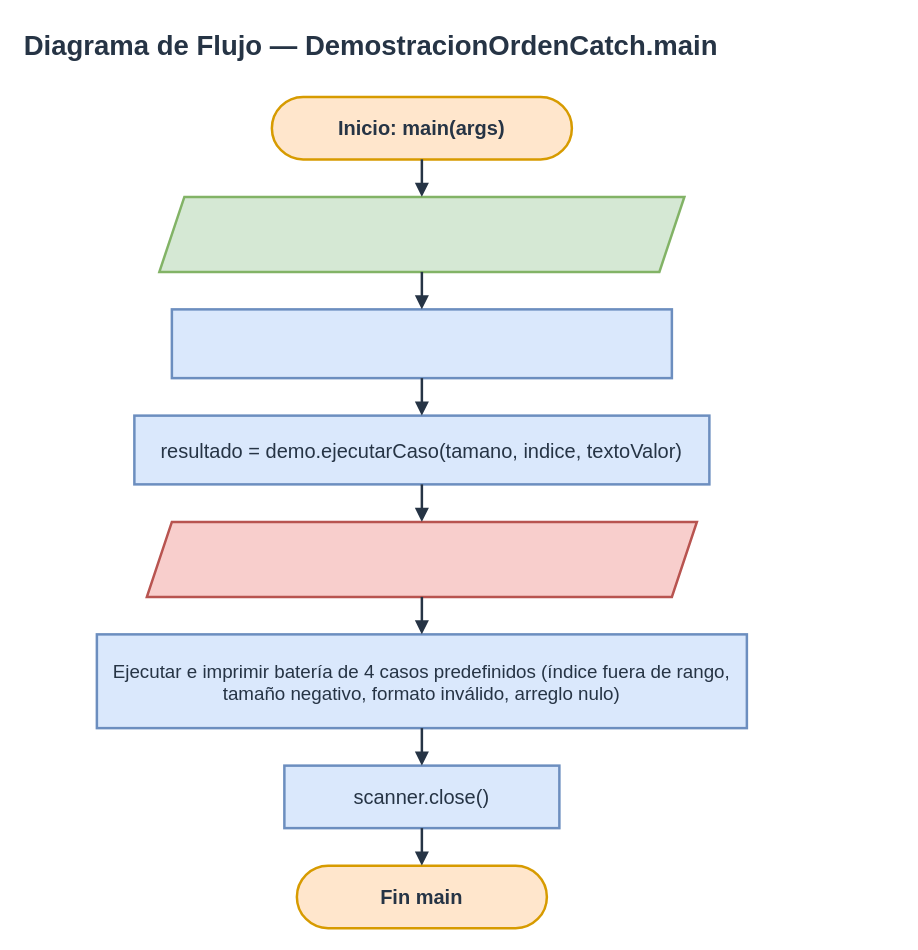
The diagram is 918 pixels wide and 950 high, and some of its shapes have lost their labels. Here are the shapes that lost their labels. From the top down, the centre of each, then its label:
At (x=421, y=233): "Leer tamano, indice y textoValor desde consola".
At (x=421, y=343): "demo = new DemostracionOrdenCatch(3)".
At (x=421, y=559): "Imprimir encabezado y resultado del caso ingresado".
